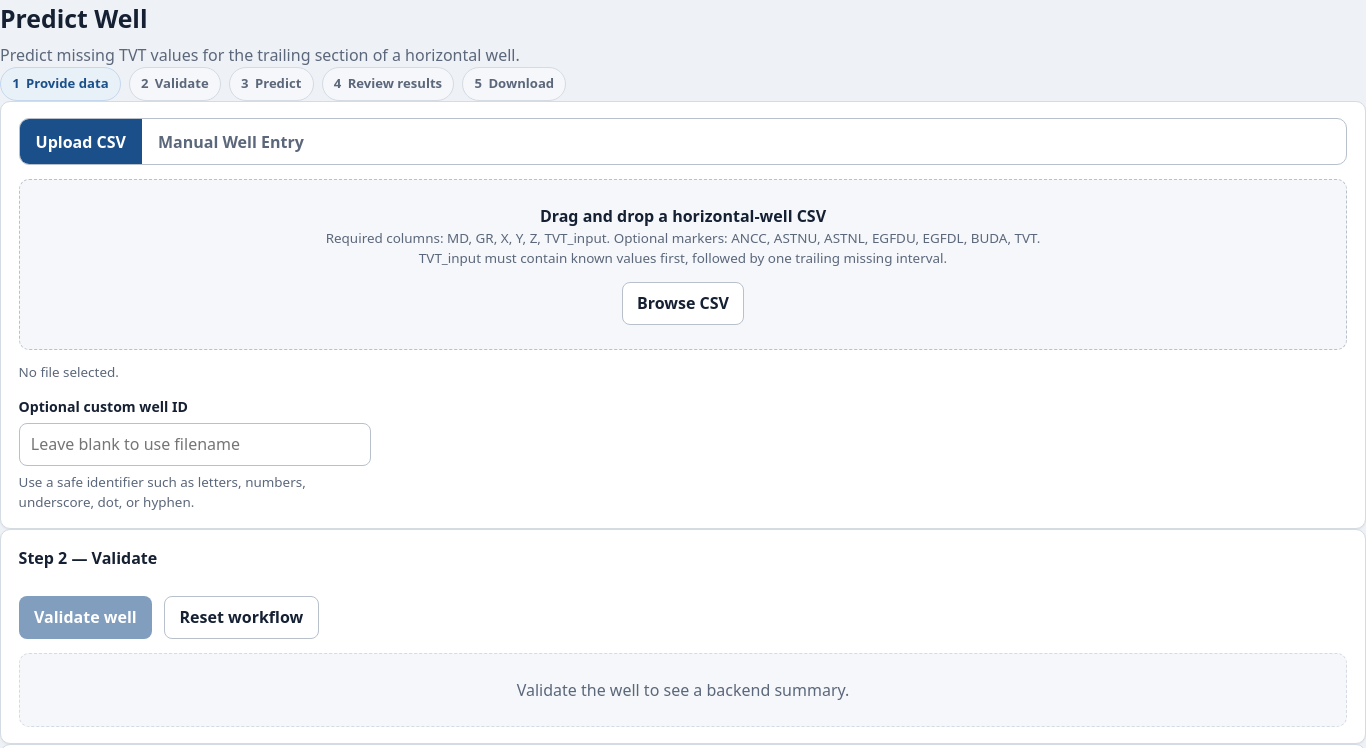
PredictPage workflow › displays structured validation errors and keeps predict disabled
The width and height of the screenshot is (1366, 748).
Click the tab "Manual Well Entry": (231, 142) [142,119,320,164]
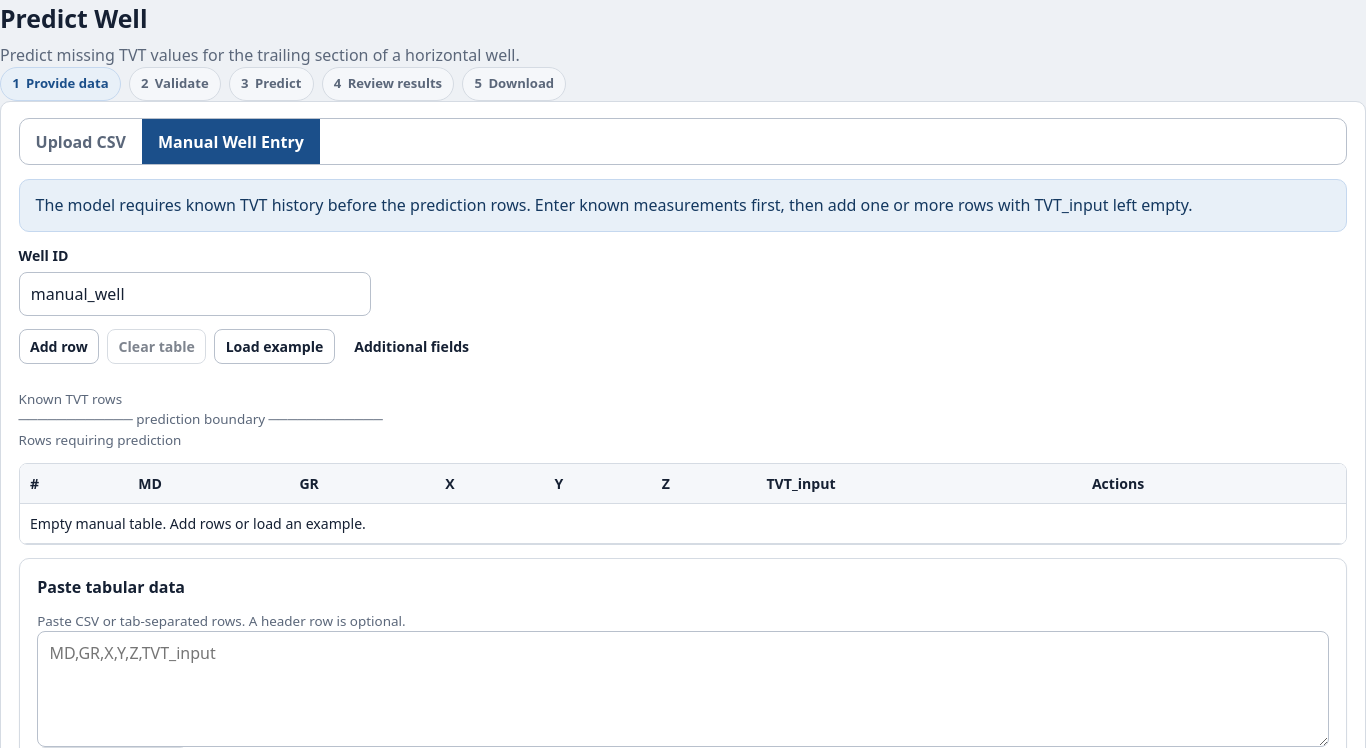
Click the button "Load example": (274, 346) [214,329,335,364]
(page scrolled)
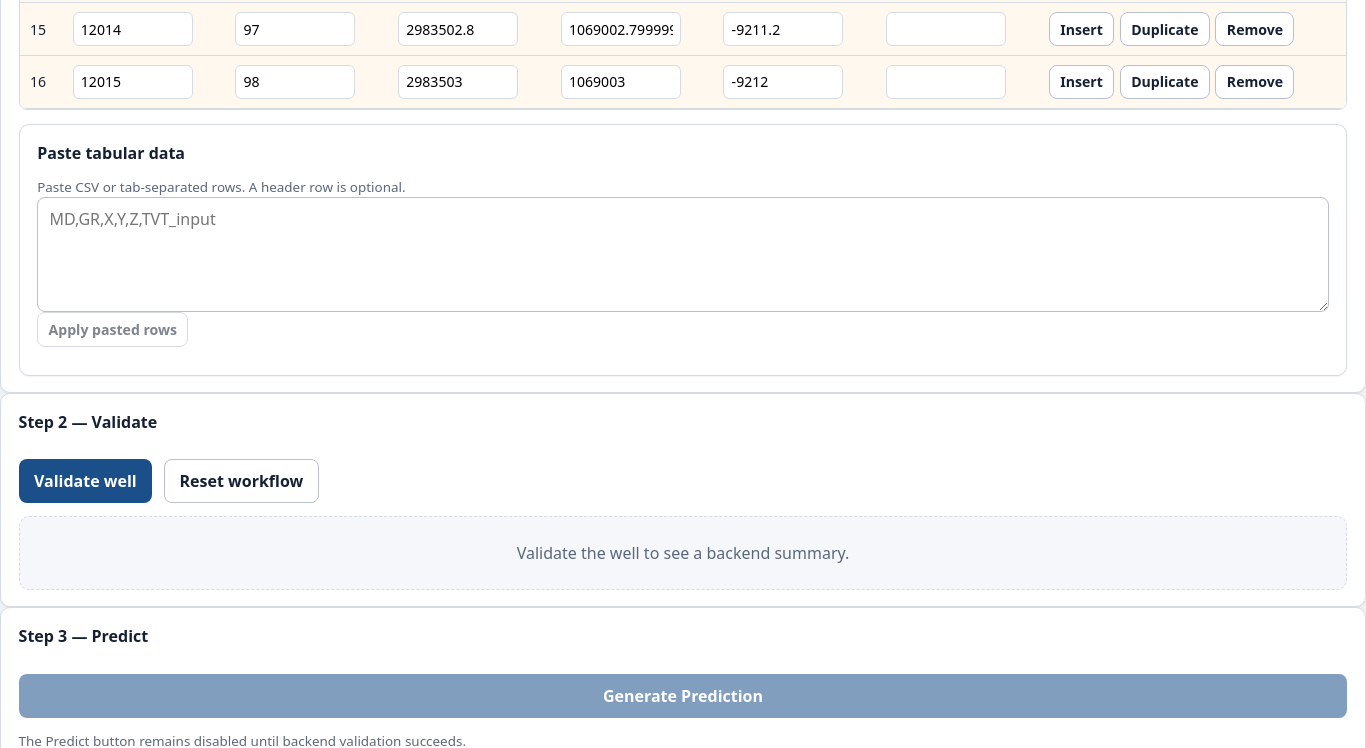
Click the button "Validate well": (85, 481) [19,459,152,503]
(page scrolled)
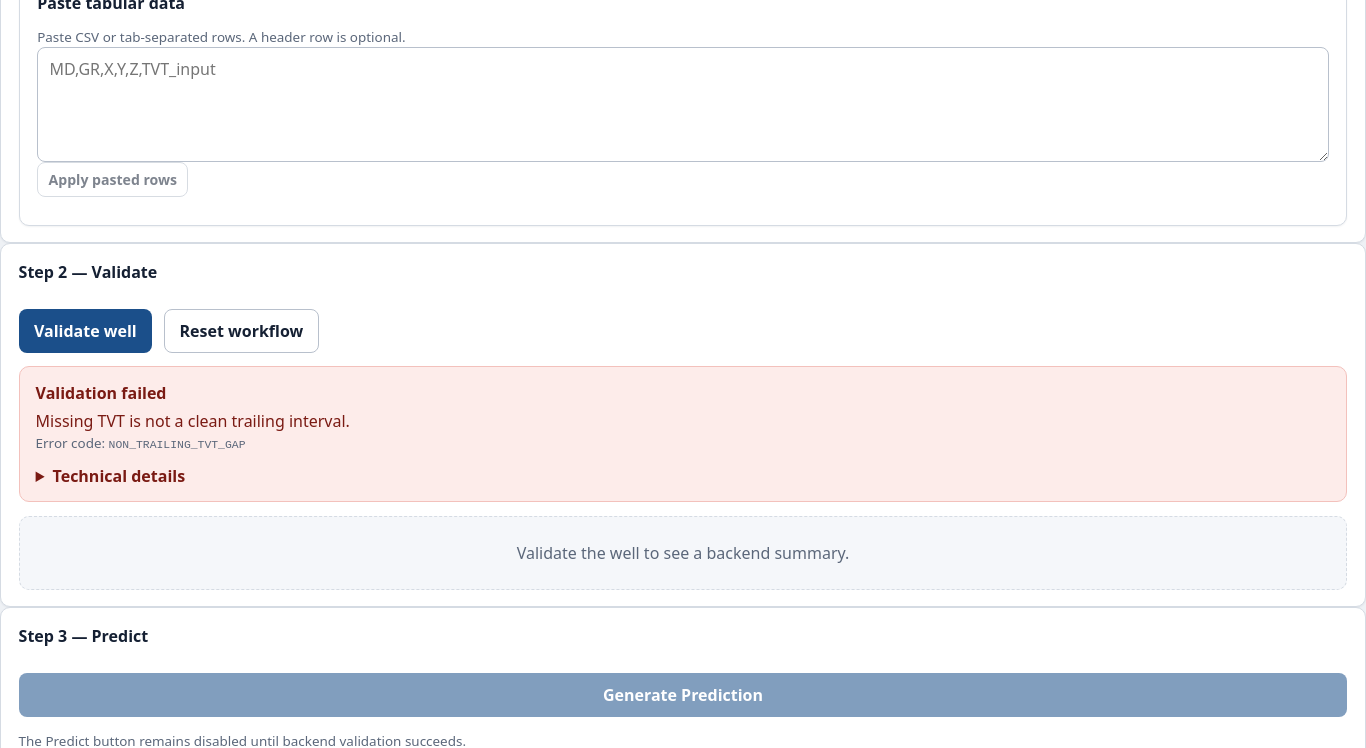
Expected: the button "Generate Prediction" is disabled, [19,673,1347,717]
Expected: the message that starts with "Validation failed" shows "clean trailing interval", [36,410,350,432]
Expected: the text "NON_TRAILING_TVT_GAP" is shown, [109,438,246,451]
